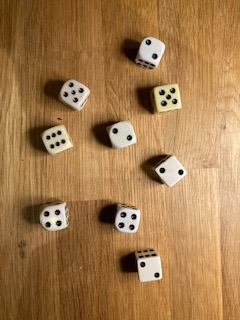five: (56, 77, 92, 112), (149, 80, 184, 115)
four: (37, 199, 71, 232), (111, 201, 142, 236)
six: (38, 122, 75, 156)
two: (151, 152, 189, 190), (132, 35, 167, 71), (132, 247, 165, 284), (102, 117, 138, 150)
